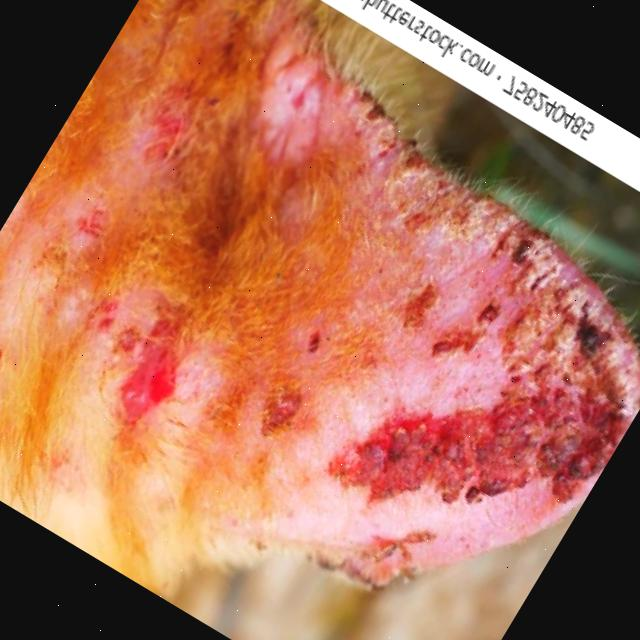cat-dermatitis: (344, 321, 583, 568), (534, 367, 640, 515), (101, 322, 197, 432), (512, 290, 612, 386), (251, 58, 345, 160), (332, 515, 423, 607), (134, 103, 194, 175)
